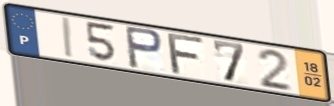2: (255, 48, 293, 93)
5: (82, 19, 119, 65)
7: (211, 38, 247, 85)
F: (166, 32, 208, 77)
I: (62, 16, 76, 61)
P: (123, 24, 166, 72)
